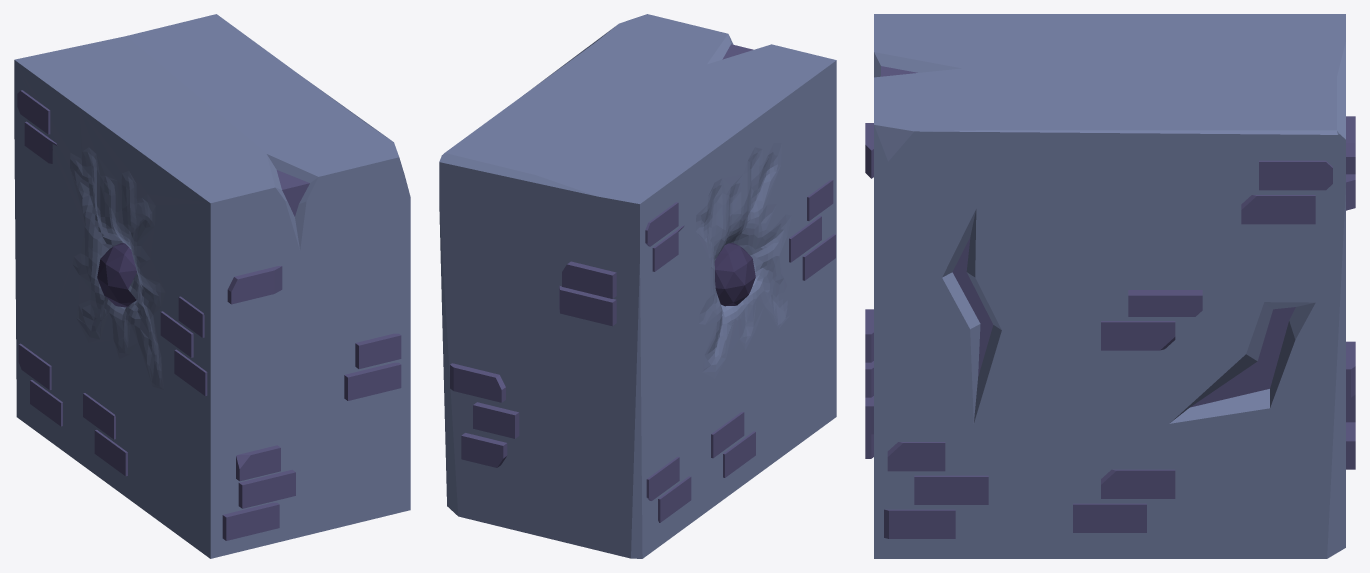
The model's file is Wall_02.fbx.
The picture shows the model from 3 angles, left to right: view 1: azimuth 30°, elevation 25°; view 2: azimuth 150°, elevation 25°; view 3: azimuth 270°, elevation 25°; orthographic projection. The views are drawn at different scales.
Visible parts, largest first — view 1: Wall_02; view 2: Wall_02; view 3: Wall_02.
Part boxes in pixels (<box>): Wall_02: <box>14,14,410,558</box>; Wall_02: <box>439,14,836,558</box>; Wall_02: <box>865,14,1355,558</box>.
Size of the model in its own units: 502 by 800 by 831.
